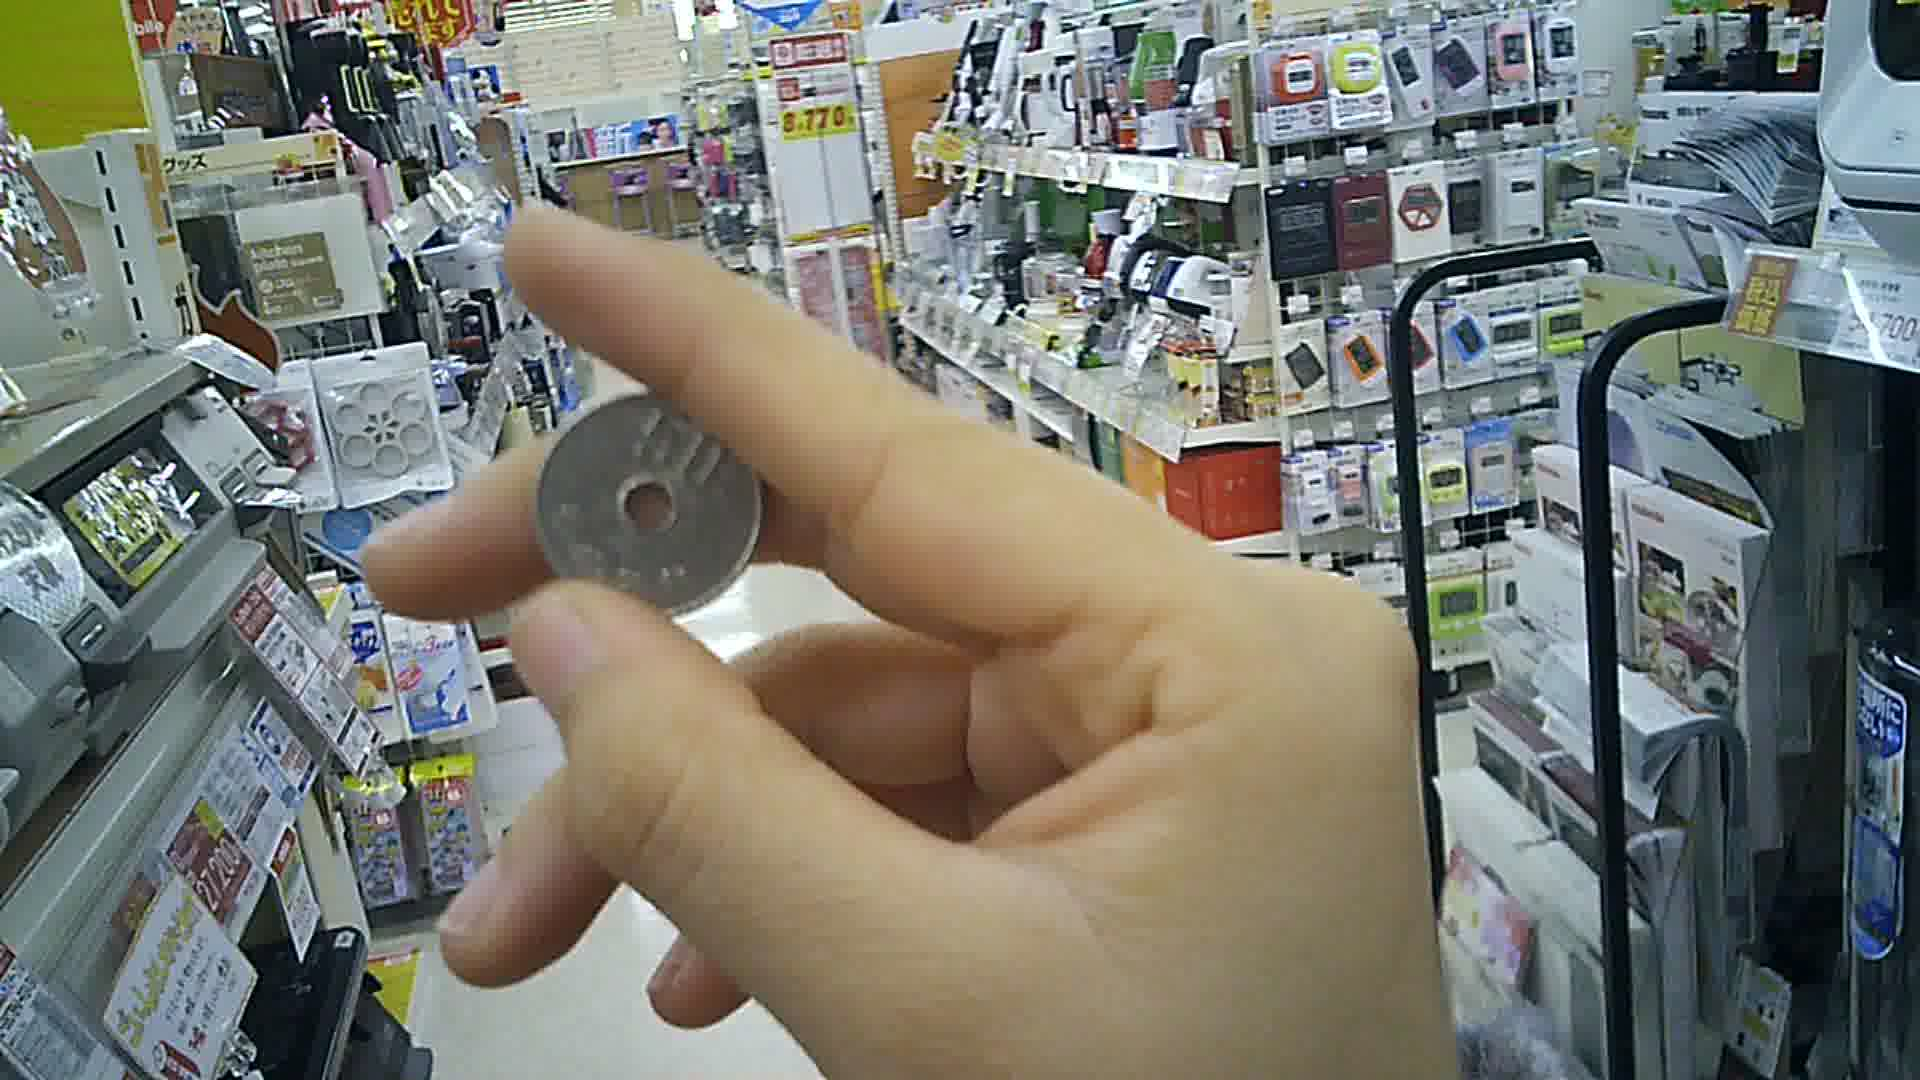50 Yen: (520, 392, 764, 615)
